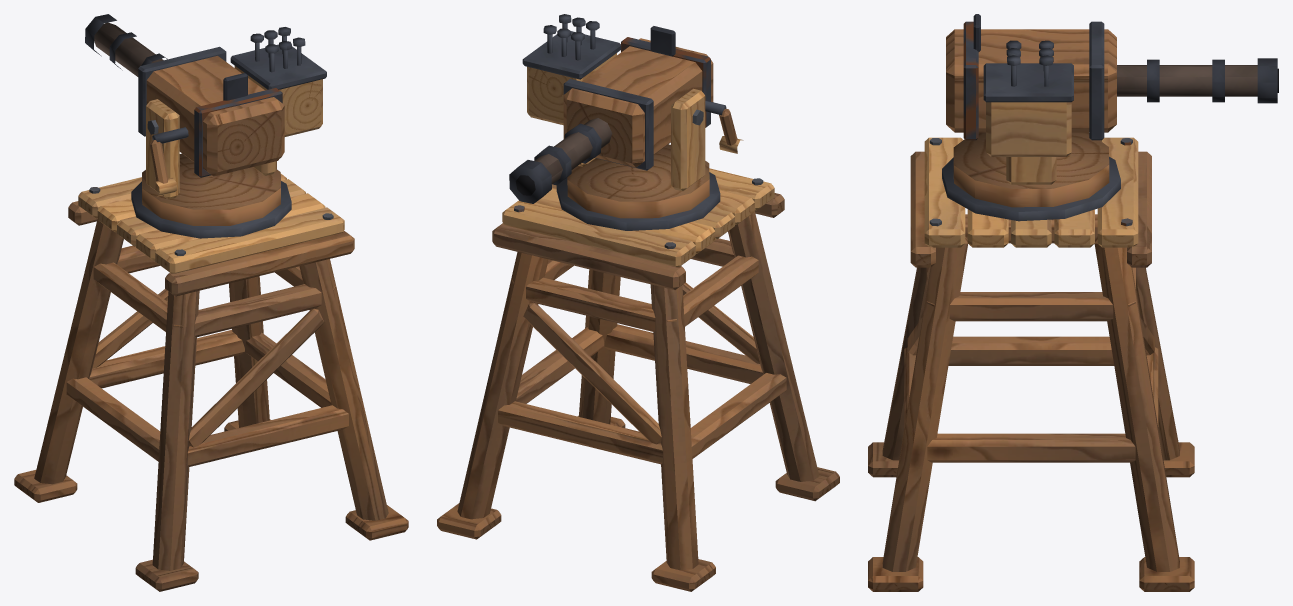
File: civi_kulesi.glb
3 views of the same model, side by side, from view 1: azimuth 30°, elevation 25°; view 2: azimuth 150°, elevation 25°; view 3: azimuth 270°, elevation 25° (orthographic). The views are drawn at different scales.
Visible parts, largest first — view 1: civi_kulesi, head; view 2: civi_kulesi, head; view 3: civi_kulesi, head.
Part boxes in pixels (<box>): civi_kulesi: <box>14,173,408,591</box>; head: <box>85,14,326,238</box>; civi_kulesi: <box>437,168,839,591</box>; head: <box>509,14,743,230</box>; civi_kulesi: <box>868,137,1194,591</box>; head: <box>942,14,1278,221</box>.
Bounding box in the file's own units: 1.3 × 2.27 × 1.63.
Materials: 1 (1 with a texture image).
